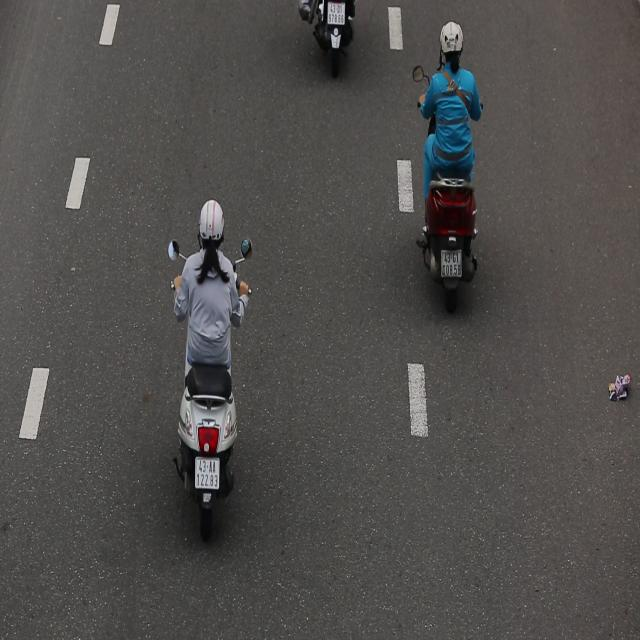motorbike: (160, 185, 262, 538), (403, 13, 504, 317)
